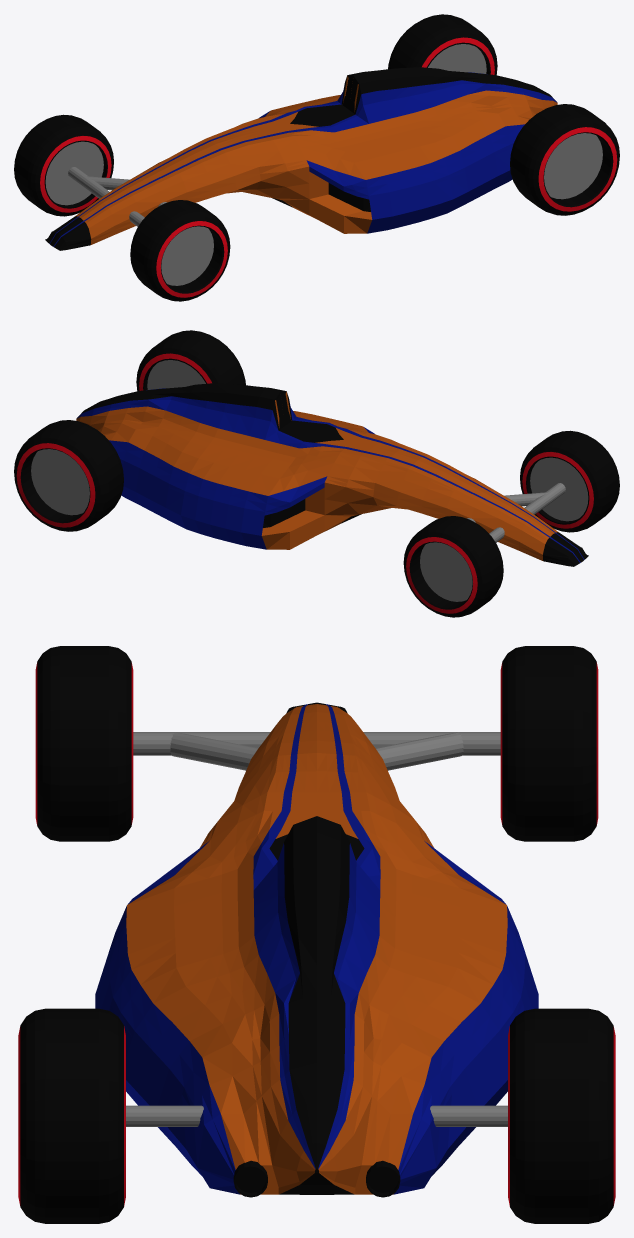
The model's file is auto.dae.
The picture shows the model from 3 angles, top to bottom: view 1: azimuth 30°, elevation 25°; view 2: azimuth 150°, elevation 25°; view 3: azimuth 270°, elevation 25°; orthographic projection. The views are drawn at different scales.
Visible parts, largest first — view 1: body, rear_left, front_left, front_right, rear_right; view 2: body, rear_right, front_right, front_left, rear_left; view 3: body, rear_right, rear_left, front_right, front_left.
Boxes of the visible parts, x1,y1,x2,y2 form: body: [45, 67, 557, 250]; rear_left: [510, 104, 619, 215]; front_left: [130, 200, 230, 301]; front_right: [14, 114, 113, 216]; rear_right: [388, 14, 497, 75]; body: [76, 383, 588, 566]; rear_right: [14, 420, 123, 531]; front_right: [403, 516, 503, 617]; front_left: [520, 430, 619, 532]; rear_left: [136, 330, 245, 391]; body: [95, 702, 538, 1197]; rear_right: [508, 1008, 615, 1223]; rear_left: [18, 1008, 125, 1223]; front_right: [500, 646, 598, 841]; front_left: [35, 646, 133, 841].
Size of the model in its own units: 4.77 by 2.44 by 1.13.
